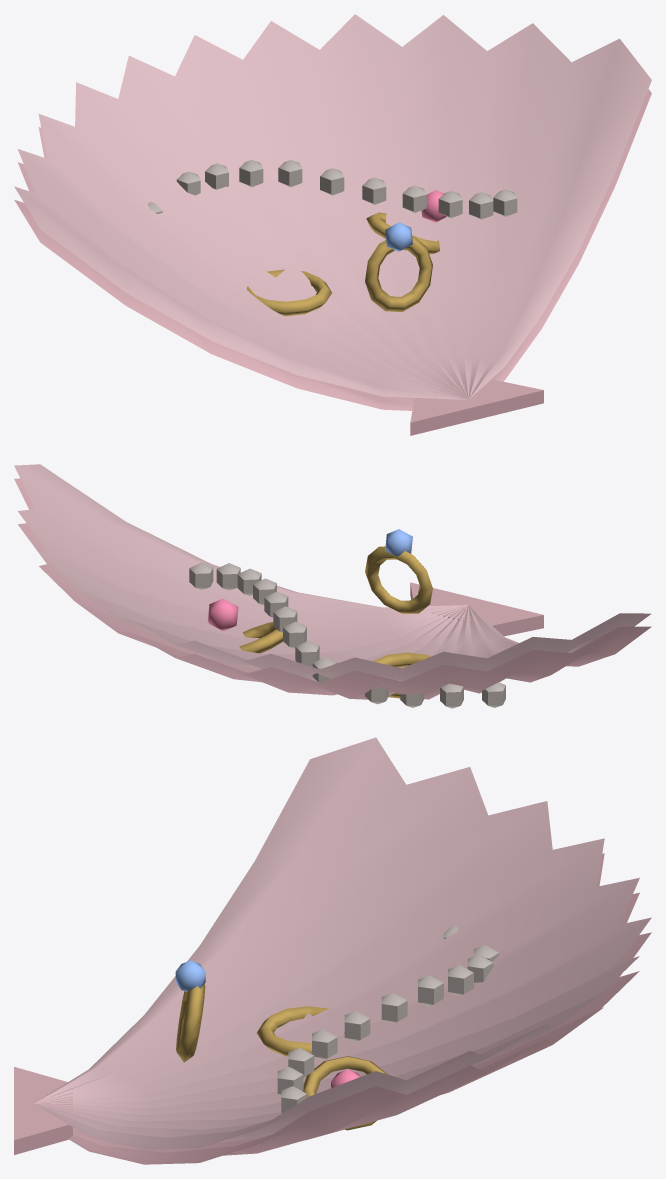
File: shell_dish.glb
3 views of the same model, one above another, from view 1: azimuth 30°, elevation 25°; view 2: azimuth 150°, elevation 25°; view 3: azimuth 270°, elevation 25° (orthographic). The views are drawn at different scales.
Visible parts, largest first — view 1: shell_dish; view 2: shell_dish; view 3: shell_dish.
Boxes of the visible parts, bbox=[...] form: shell_dish: bbox=[14, 14, 651, 435]; shell_dish: bbox=[14, 464, 651, 708]; shell_dish: bbox=[14, 737, 651, 1164].
Size of what is drawn, in the model's own units: 0.2 by 0.06 by 0.16.
